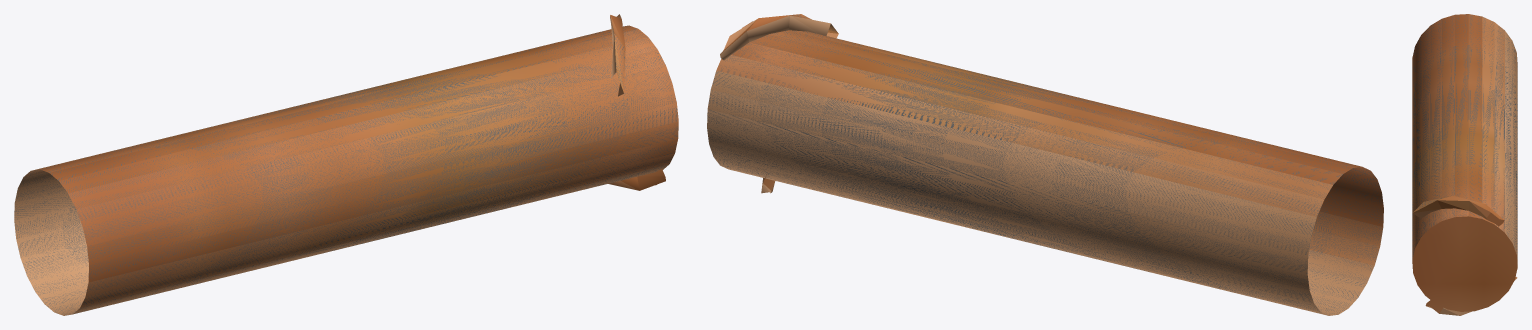
File: original-805.obj
3 renders of one model, left to right at view 1: azimuth 30°, elevation 25°; view 2: azimuth 150°, elevation 25°; view 3: azimuth 270°, elevation 25°, orthographic. The views are drawn at different scales.
Visible parts, largest first — view 1: mesh281/mesh281-geometry#mesh281-geometry; view 2: mesh281/mesh281-geometry#mesh281-geometry; view 3: mesh281/mesh281-geometry#mesh281-geometry.
Boxes of the visible parts, x1,y1,x2,y2 form: mesh281/mesh281-geometry#mesh281-geometry: [14, 14, 678, 315]; mesh281/mesh281-geometry#mesh281-geometry: [707, 14, 1383, 315]; mesh281/mesh281-geometry#mesh281-geometry: [1412, 14, 1517, 315].
Bounding box in the file's own units: 0.0356 × 0.00941 × 0.00783.
